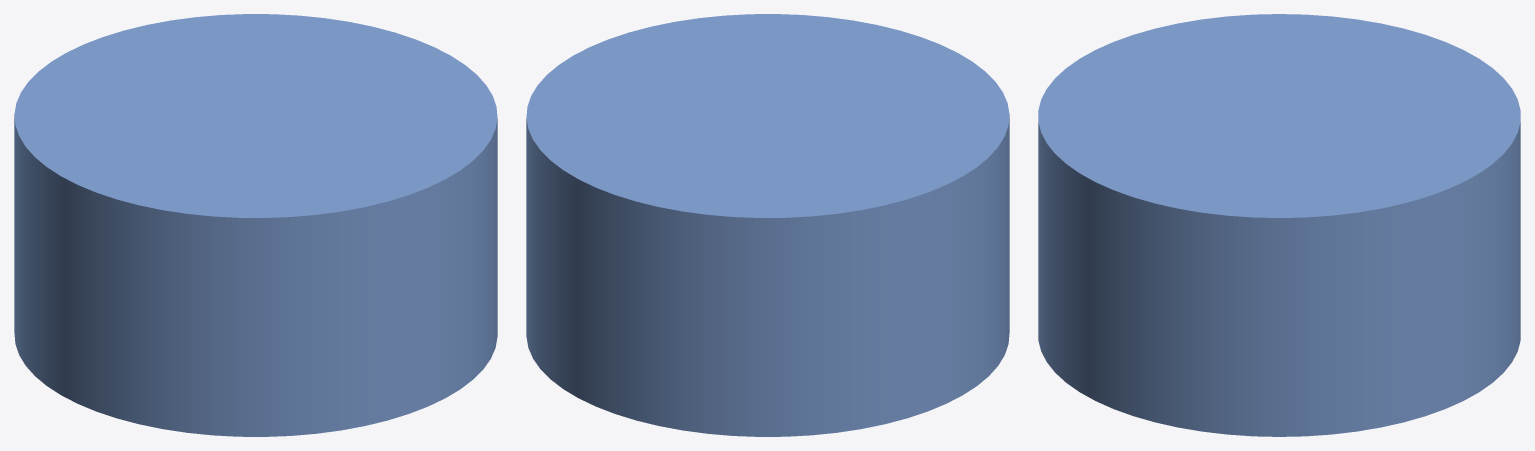
The model's file is 1323 - wheel (1).gltf.
The picture shows the model from 3 angles, left to right: view 1: azimuth 30°, elevation 25°; view 2: azimuth 150°, elevation 25°; view 3: azimuth 270°, elevation 25°; orthographic projection.
Visible parts, largest first — view 1: wheel; view 2: wheel; view 3: wheel.
Boxes of the visible parts, box(x1,y1,x2,y2) form: wheel: box(14, 14, 497, 436); wheel: box(526, 14, 1009, 436); wheel: box(1038, 14, 1520, 436).
Size of the model in its own units: 0.1016 by 0.0508 by 0.1015.
